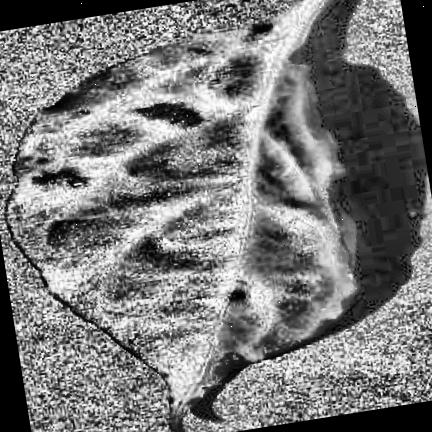leaf: (6, 0, 356, 429)
